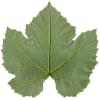grape leaf: (0, 1, 100, 97)
